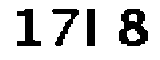1: (11, 7, 45, 51)
7: (48, 4, 81, 48)
8: (115, 8, 152, 53)
I: (83, 6, 102, 55)
